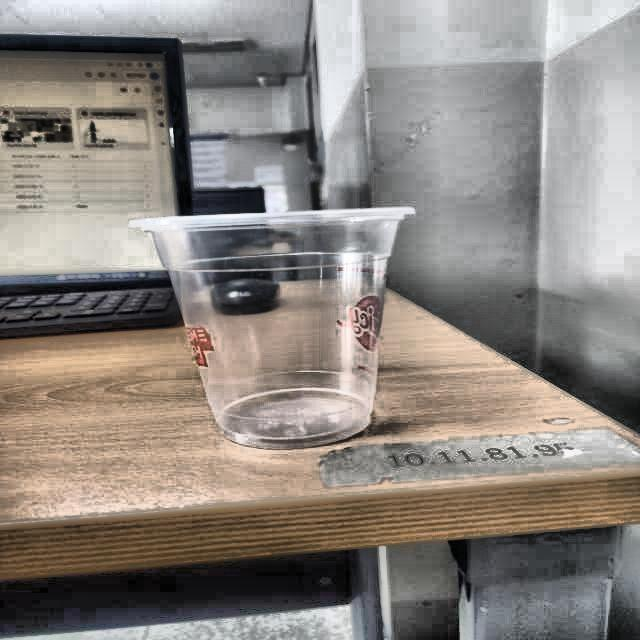plastic cup: (128, 206, 422, 447)
